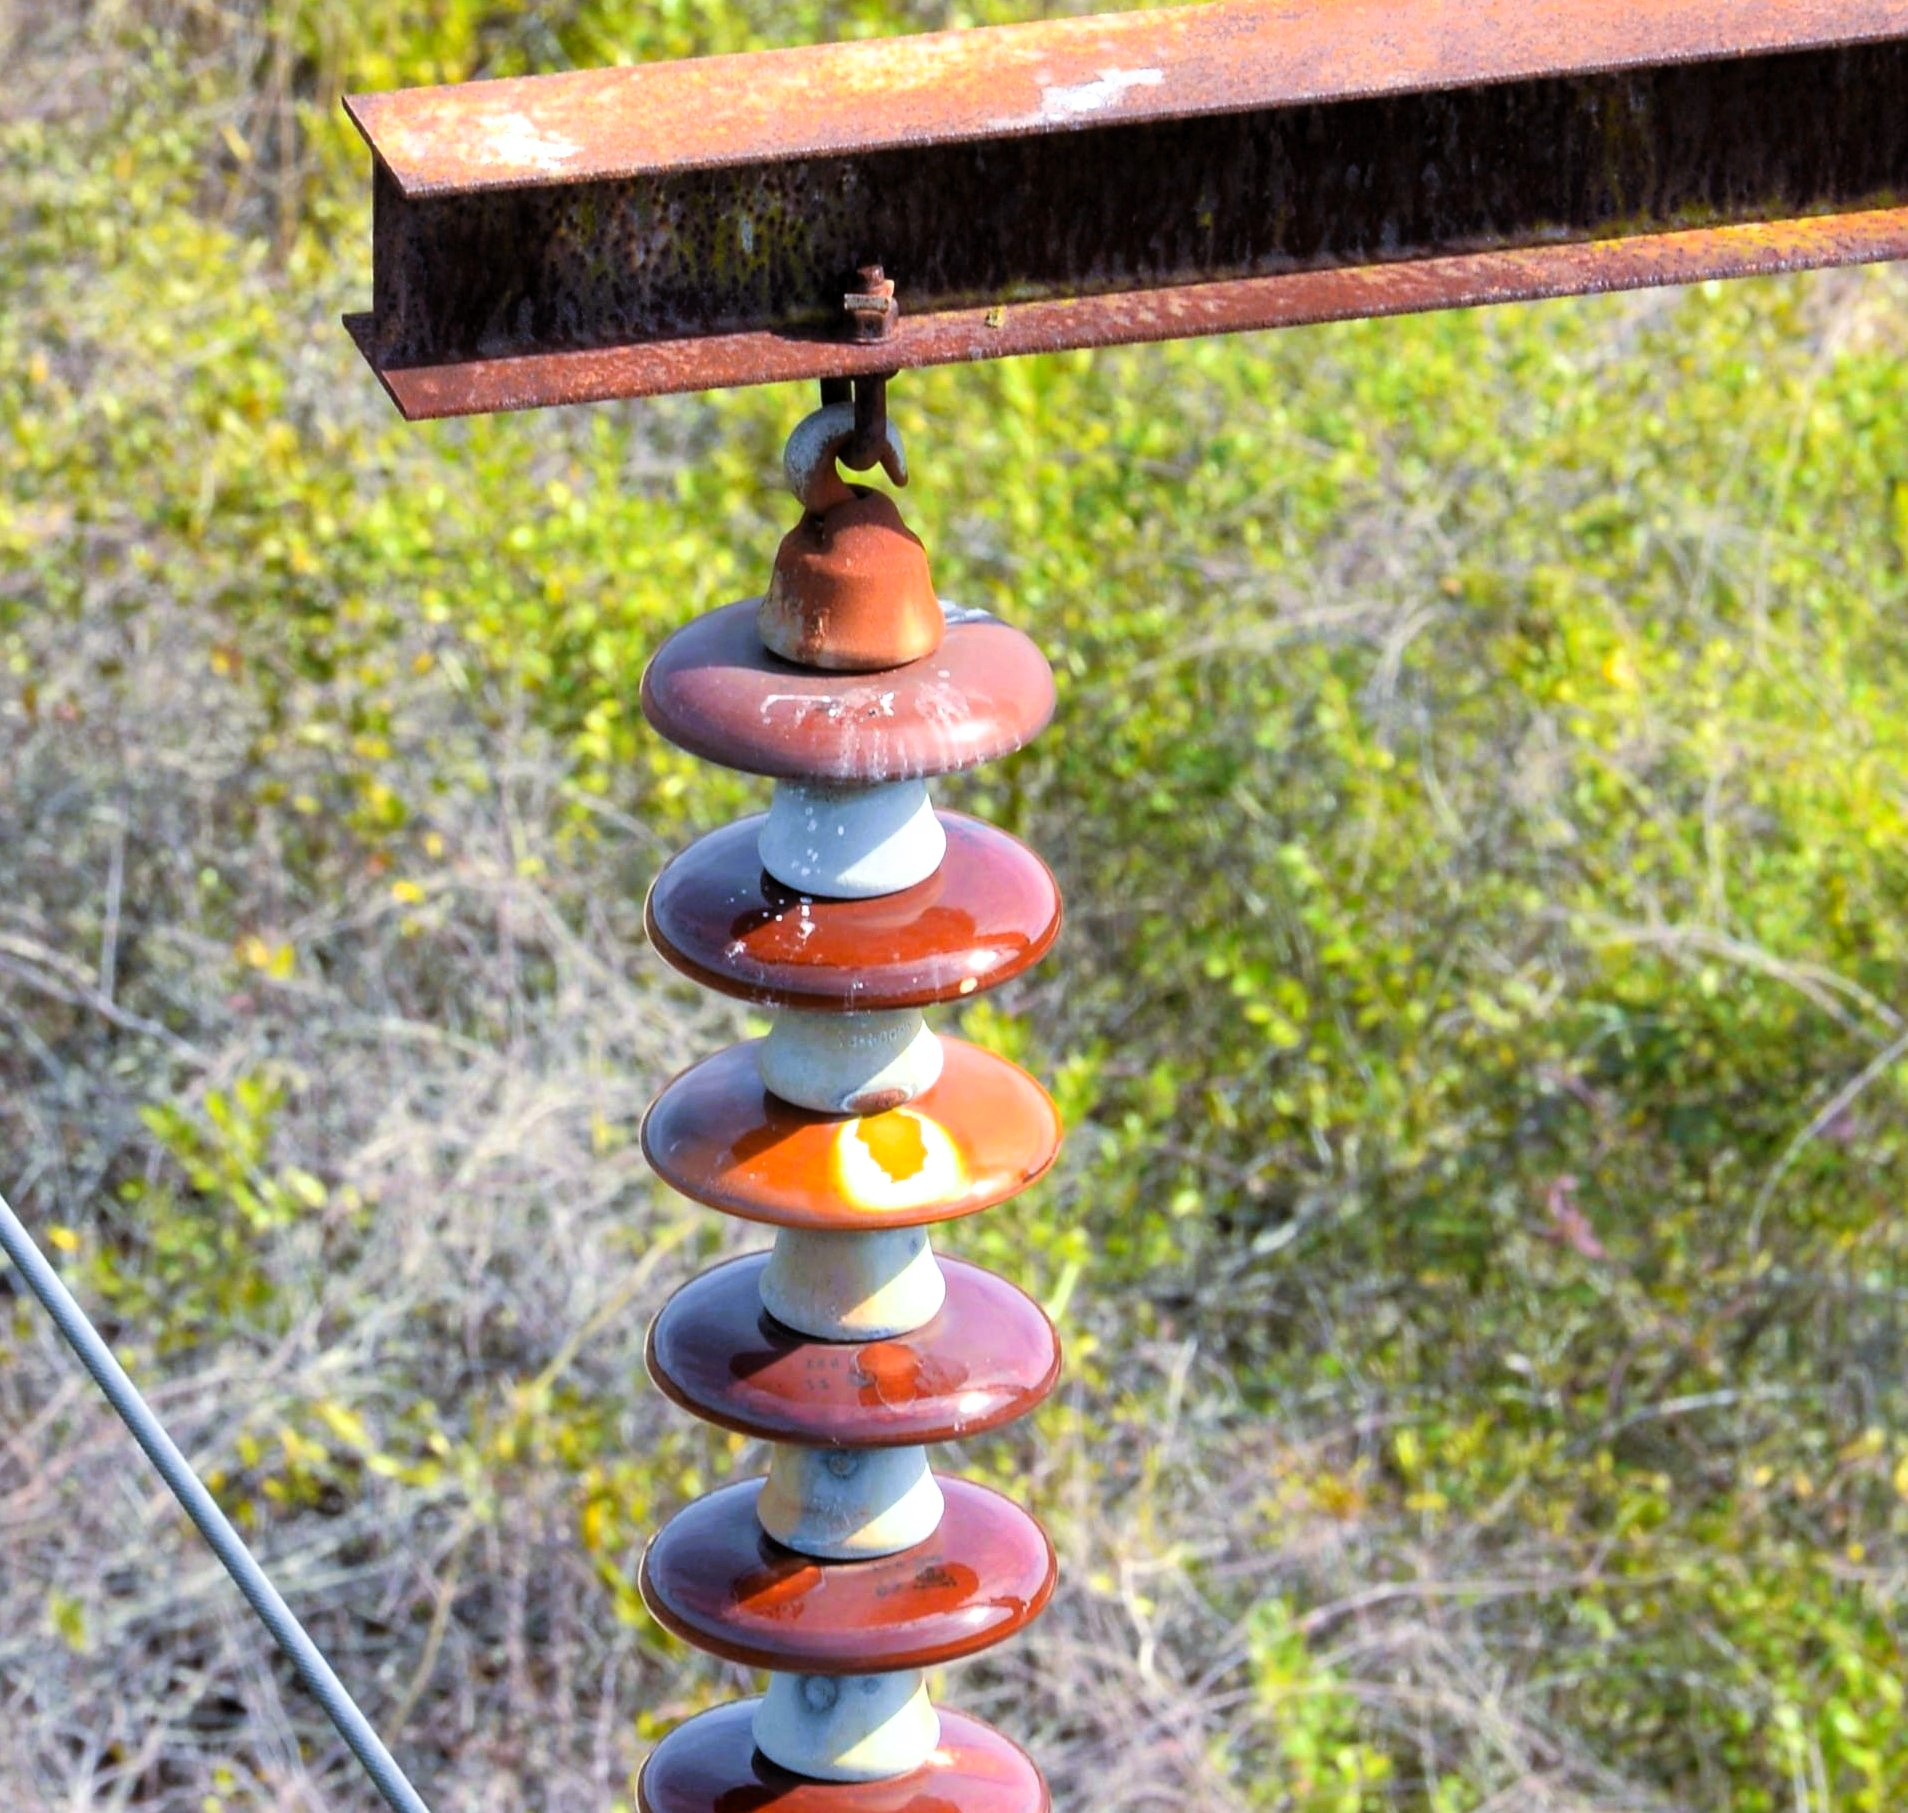Insulator flashover: (630, 1021, 1061, 1246)
